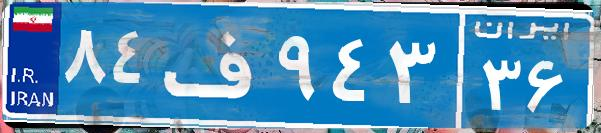3: (385, 28, 445, 110), (475, 38, 525, 113)
4: (330, 28, 385, 110), (110, 28, 158, 105)
6: (525, 38, 570, 115)
8: (57, 26, 110, 107)
9: (273, 28, 330, 110)
ف: (158, 15, 273, 115)
